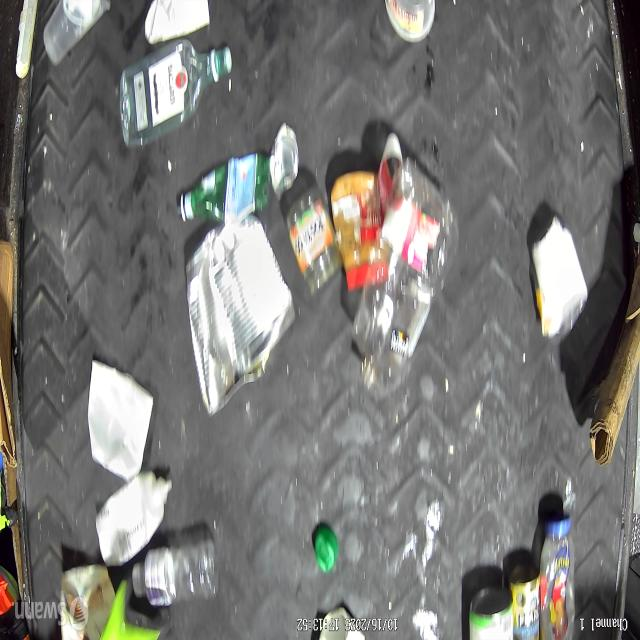can: (184, 218, 295, 419), (462, 573, 515, 640), (508, 566, 540, 636)
plastic_bottle: (178, 154, 268, 231), (128, 537, 221, 607)
